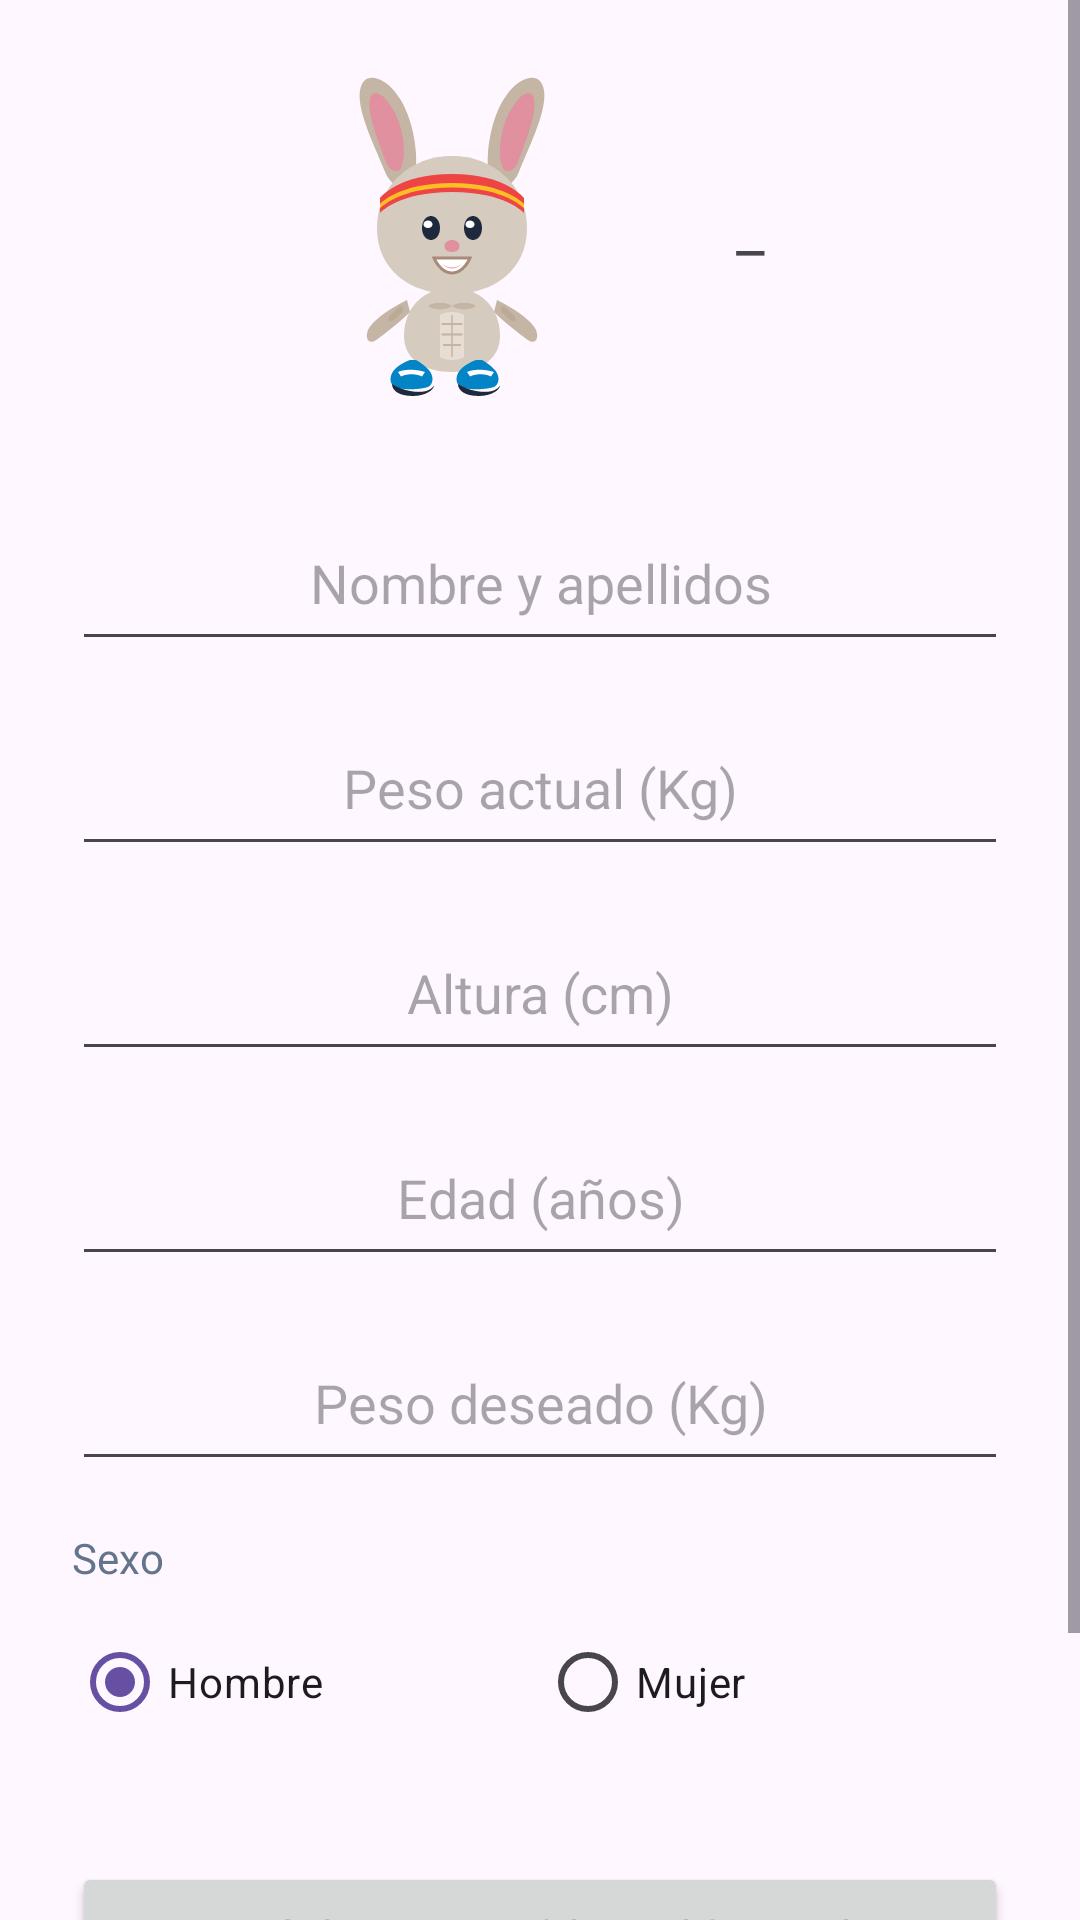

Icons on this 1080*1920 Android screen, each with the point to tap as (x,y):
bunny fit: (452,237)
